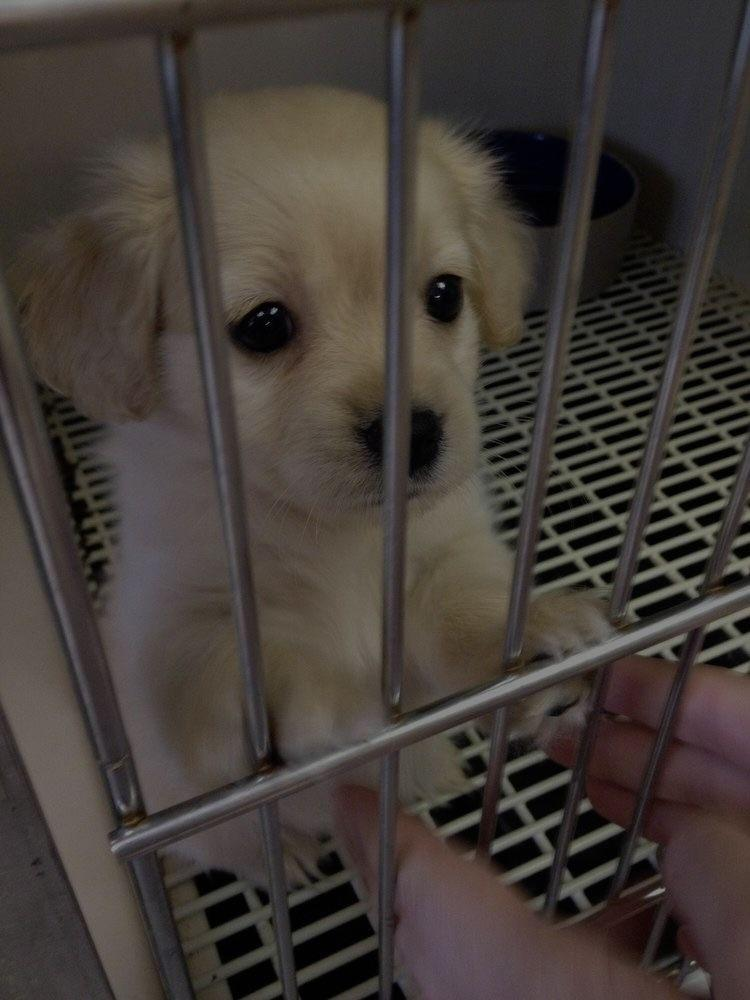puppy-dog: (3, 67, 640, 980)
